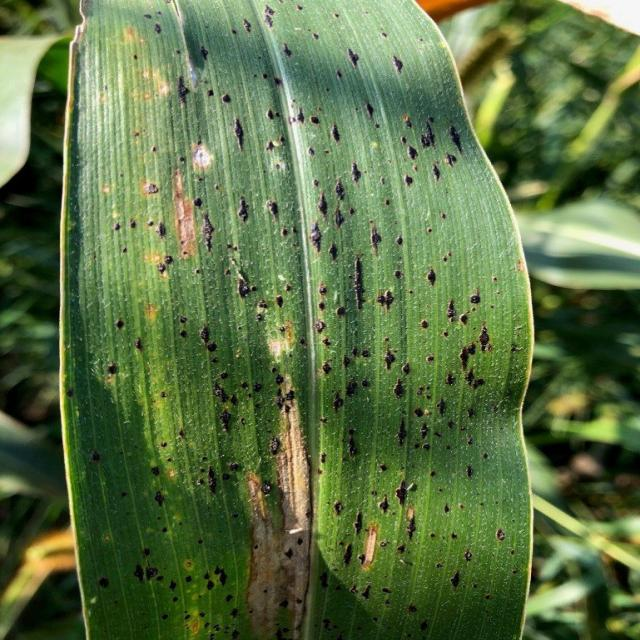Tar_Spot: (57, 0, 536, 639)
